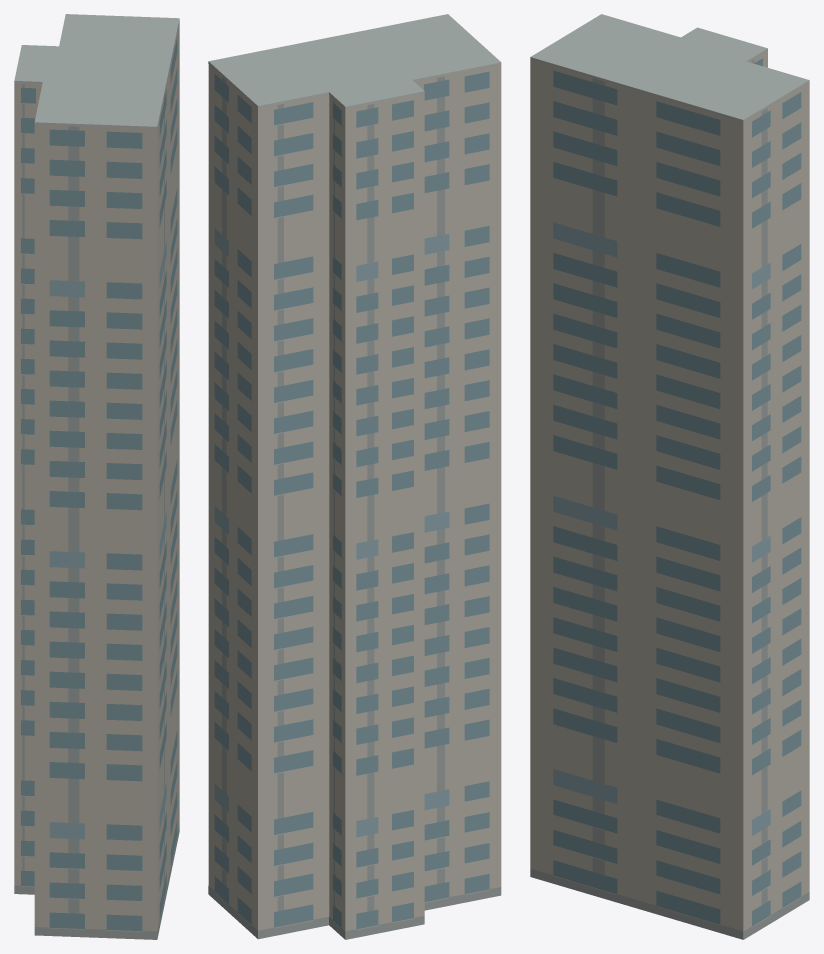
The model's file is residential-6087f390-f195-4f6e-94f5-403e3ea41c90.glb.
The picture shows the model from 3 angles, left to right: view 1: azimuth 30°, elevation 25°; view 2: azimuth 150°, elevation 25°; view 3: azimuth 270°, elevation 25°; orthographic projection. The views are drawn at different scales.
Visible parts, largest first — view 1: residential-6087f390-f195-4f6e-94f5-403e3ea41c90.tmp; view 2: residential-6087f390-f195-4f6e-94f5-403e3ea41c90.tmp; view 3: residential-6087f390-f195-4f6e-94f5-403e3ea41c90.tmp.
Boxes of the visible parts, bbox=[...] form: residential-6087f390-f195-4f6e-94f5-403e3ea41c90.tmp: bbox=[14, 14, 179, 939]; residential-6087f390-f195-4f6e-94f5-403e3ea41c90.tmp: bbox=[208, 14, 501, 939]; residential-6087f390-f195-4f6e-94f5-403e3ea41c90.tmp: bbox=[530, 14, 809, 939].
Size of the model in its own units: 20.53 by 74 by 22.85.
